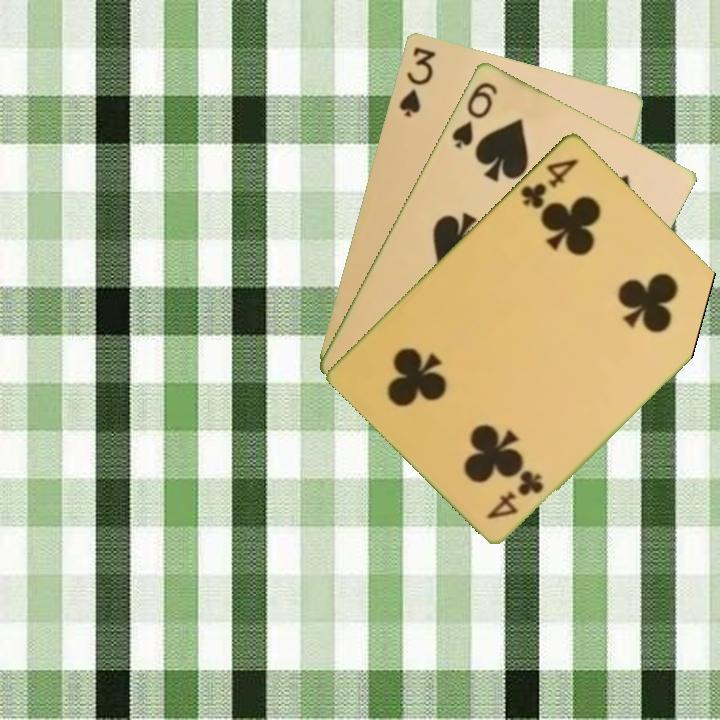3s: (395, 43, 438, 120)
4c: (517, 154, 582, 211), (483, 466, 547, 522)
6s: (447, 78, 501, 151)
